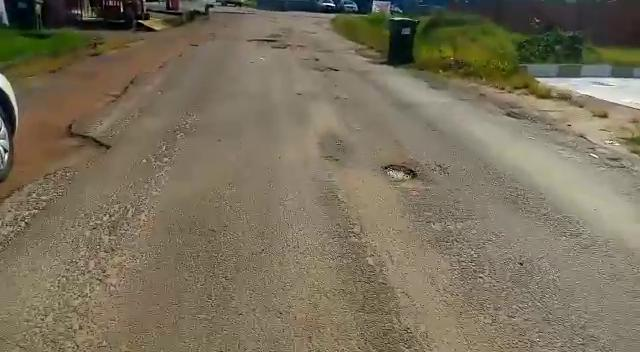pothole: (381, 161, 423, 185), (315, 65, 348, 72)
